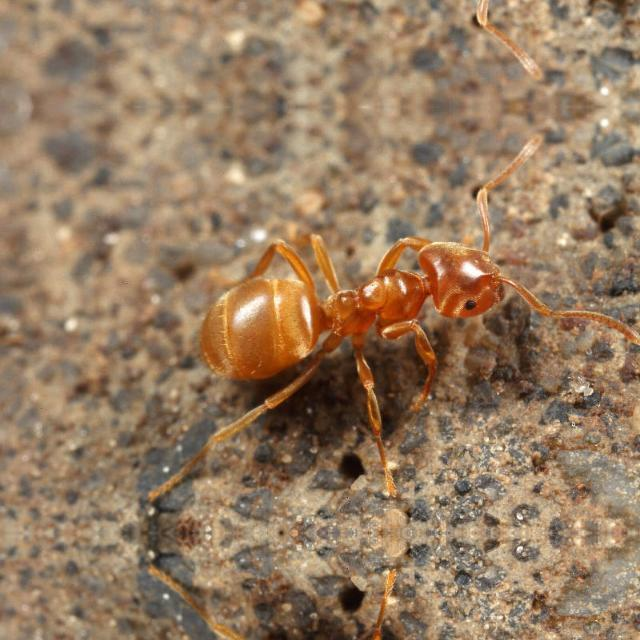Lasius: (168, 171, 526, 399)
